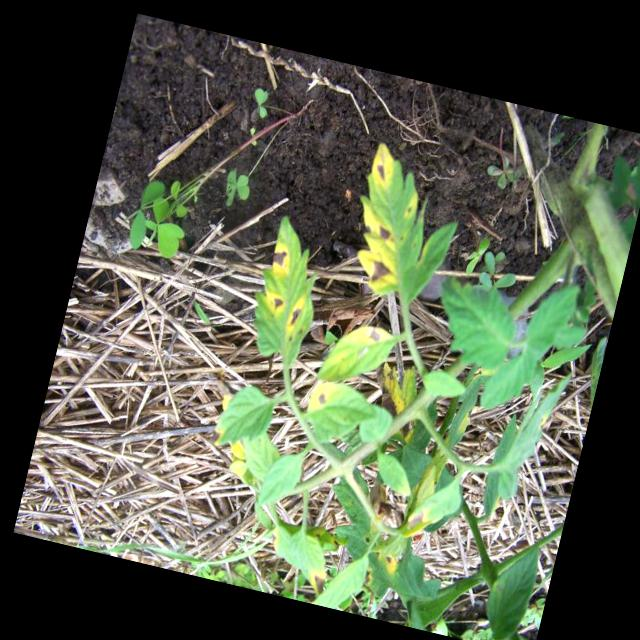Early_blight: (363, 365, 424, 437), (367, 141, 399, 192), (360, 256, 403, 292), (351, 322, 396, 351), (284, 292, 309, 340), (306, 378, 336, 415), (402, 503, 432, 536), (260, 291, 290, 321), (268, 244, 292, 280), (371, 223, 395, 247), (309, 572, 328, 597)
